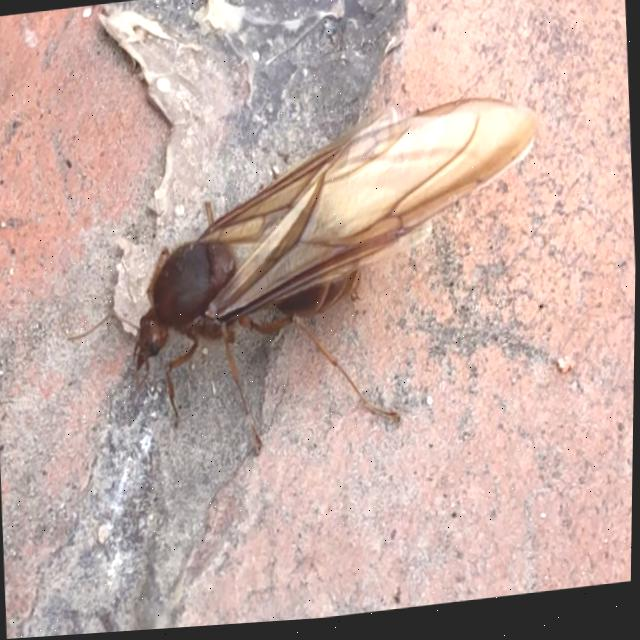Alive-Male-Alate: (56, 96, 556, 481)
